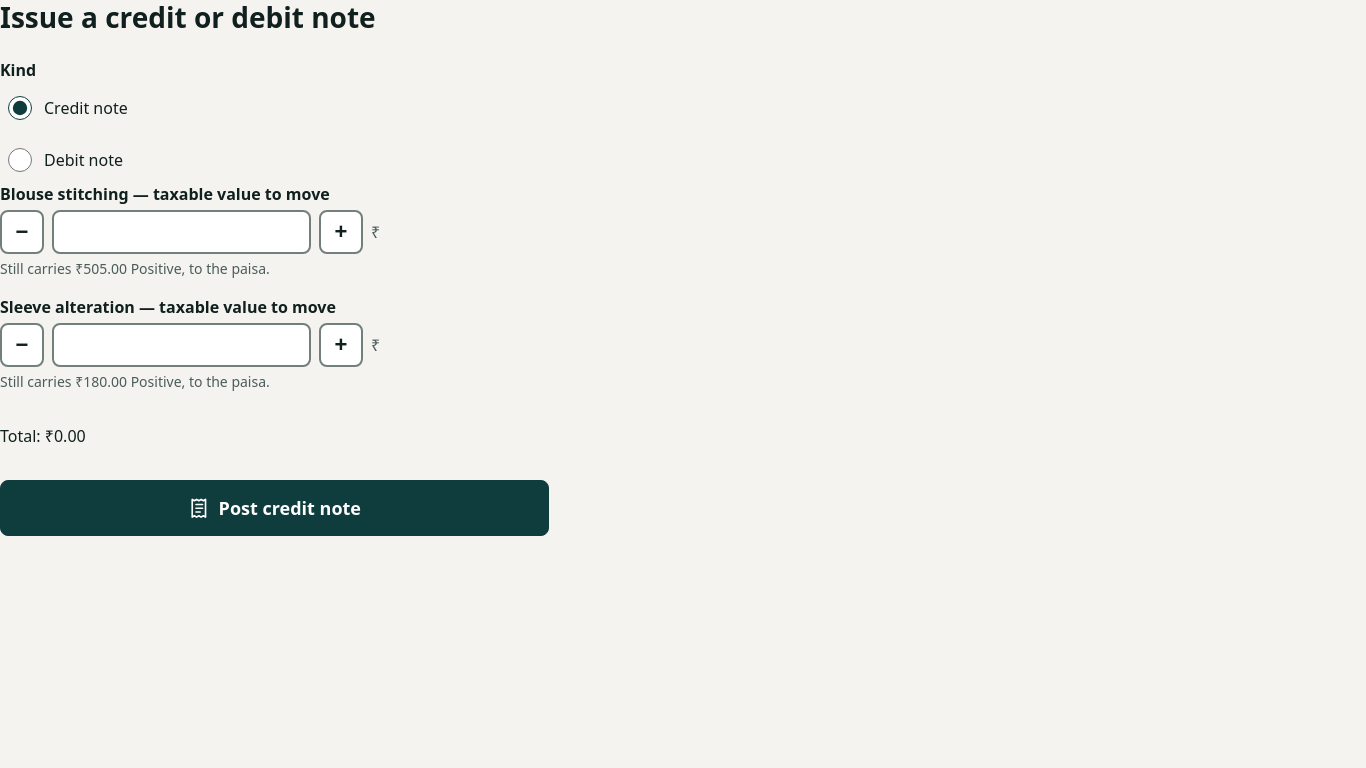
it: issuing a credit or debit note (#354) › posts a credit note against a line, announces the number, the invoice and the amount, and offers to download and open the invoice
Check: the radio button labelled "Credit note" is shown, box [8,96,32,120]
Type "90" into the field labelled "Blouse stitching — taxable value to move" at (182, 232), box [52,210,311,254]
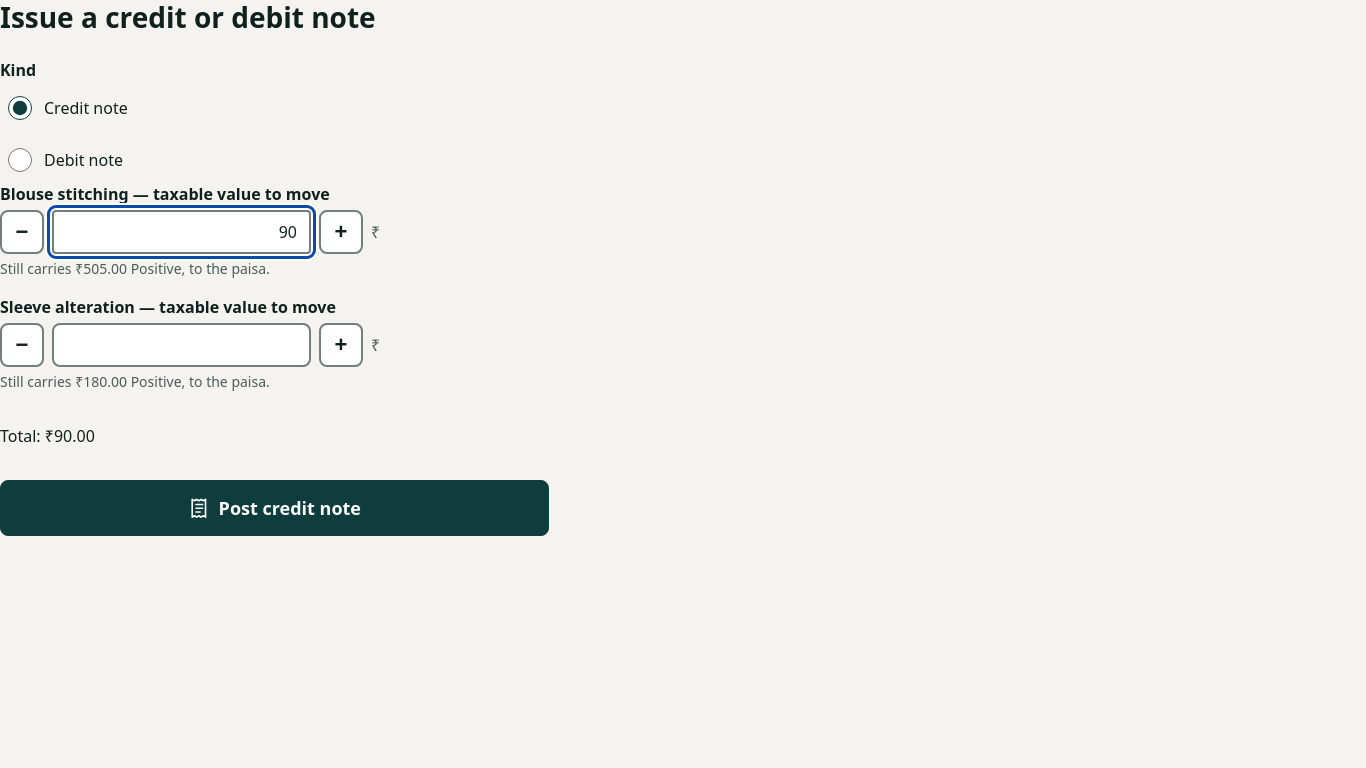
Click the button "Post credit note" at (275, 508), box [0,480,549,536]
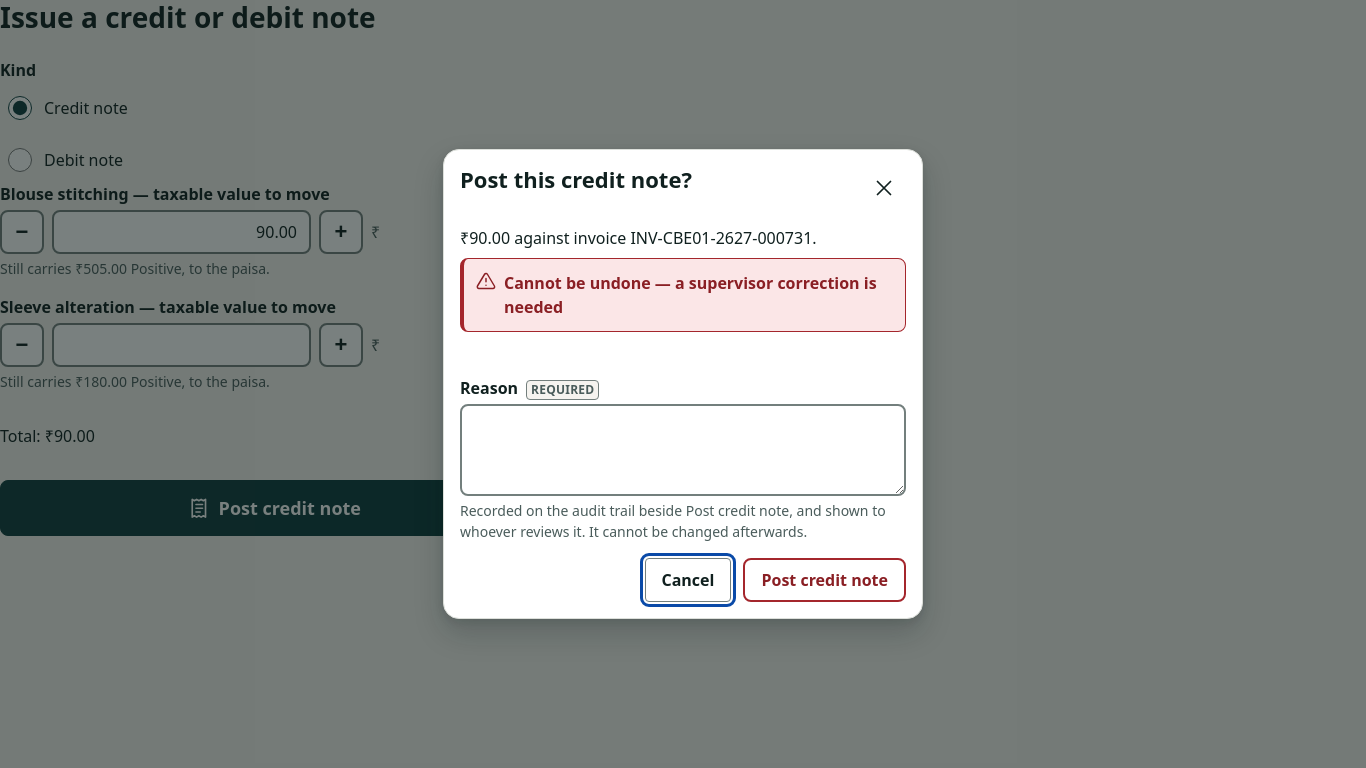
Type "Lining charged twice." into the text box labelled "Reason" at (683, 450), box [460,404,906,496]
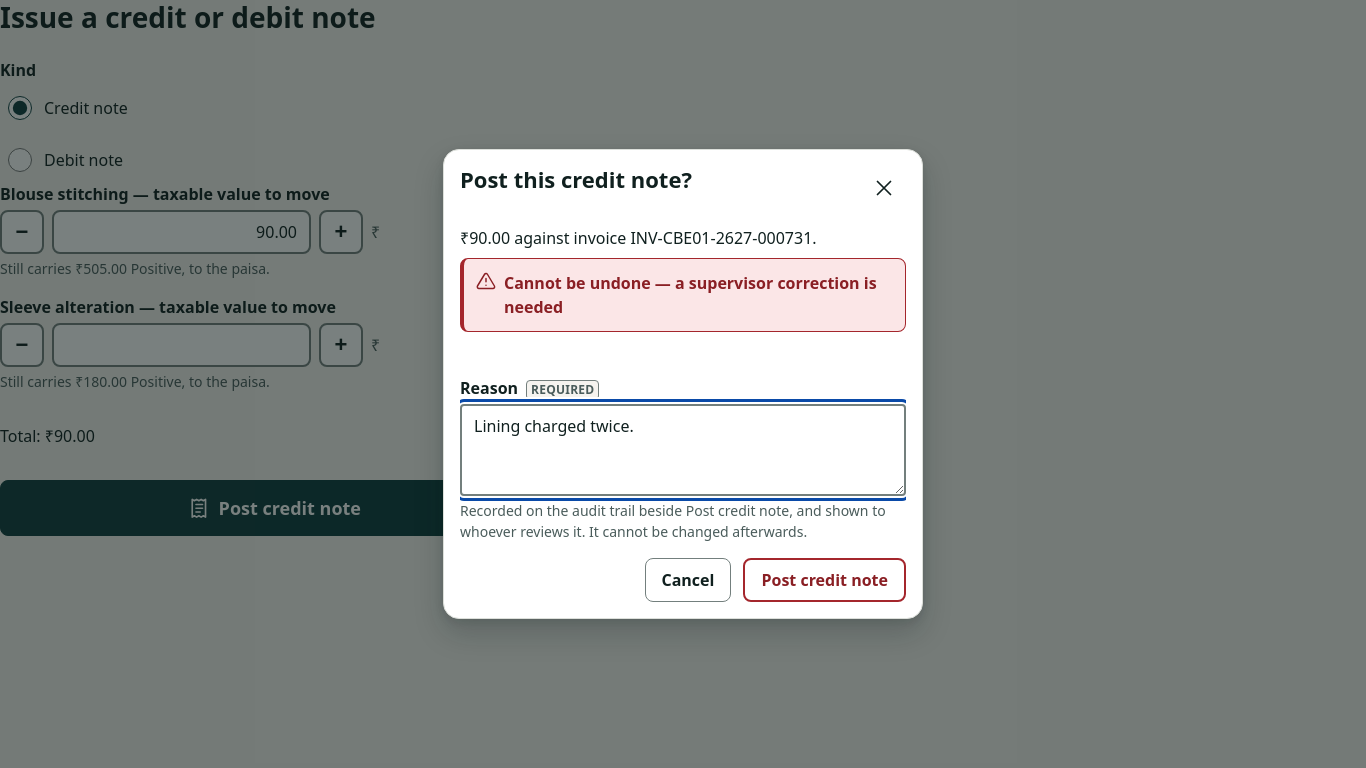
Click the button "Post credit note" at (825, 580), box [743,558,906,602]
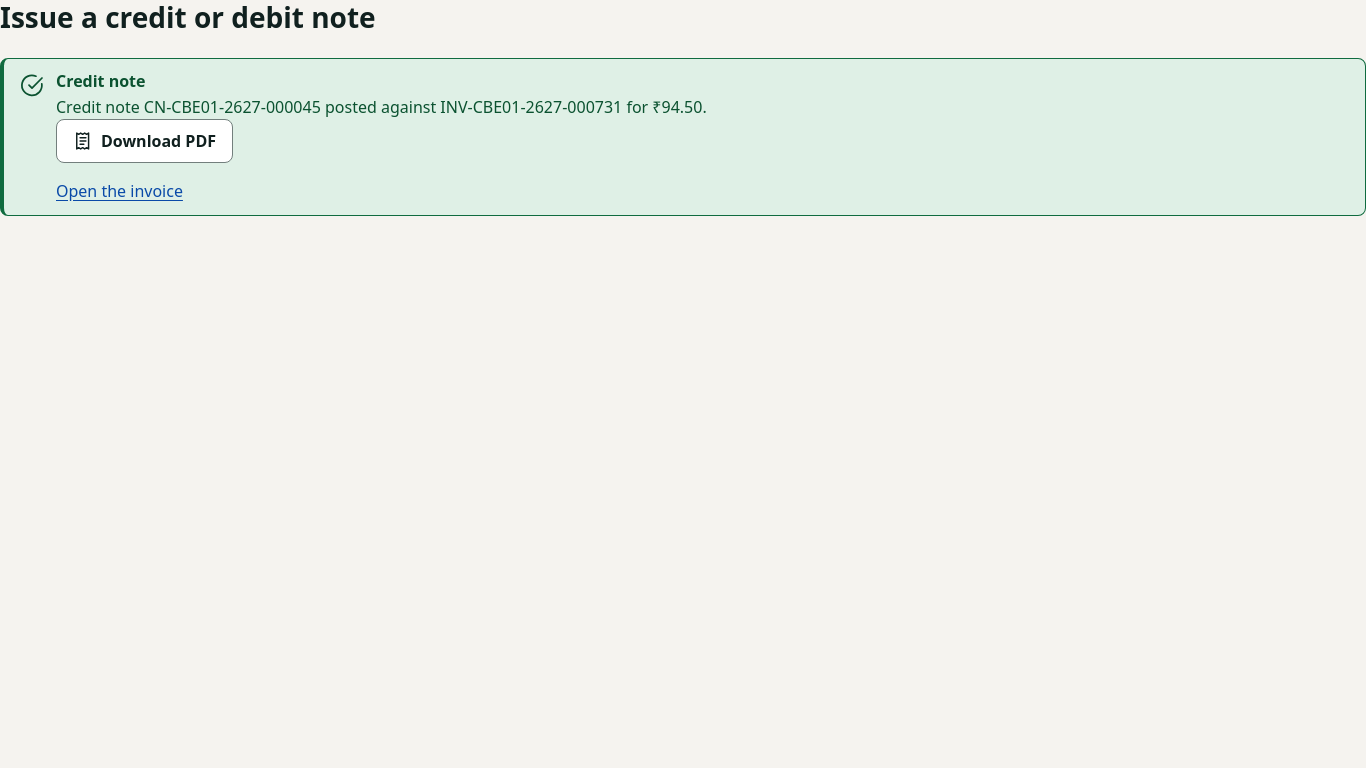
Check: the text "Credit note CN-CBE01-2627-000045 posted against INV-CBE01-2627-000731 for ₹94.50." is shown, box [56,96,707,118]
Check: the link "Open the invoice" is shown, box [56,180,183,202]
